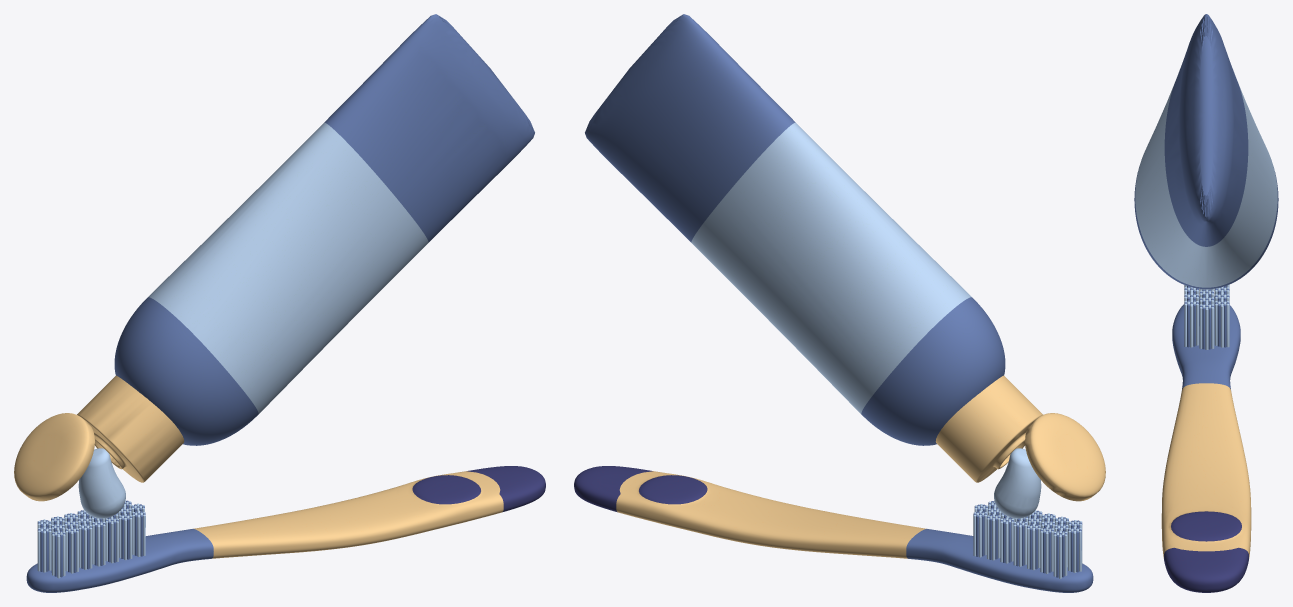
Rendered from toothpaste.glb.
The picture shows the model from 3 angles, left to right: view 1: azimuth 30°, elevation 25°; view 2: azimuth 150°, elevation 25°; view 3: azimuth 270°, elevation 25°; orthographic projection. The views are drawn at different scales.
Visible parts, largest first — view 1: Cylinder.043; view 2: Cylinder.043; view 3: Cylinder.043.
Part boxes in pixels (bbox=[...]): Cylinder.043: bbox=[14, 14, 545, 592]; Cylinder.043: bbox=[574, 14, 1105, 592]; Cylinder.043: bbox=[1134, 14, 1278, 592].
Size of the model in its own units: 2.03 by 1.87 by 0.4627.
1 material, 1 textured.
